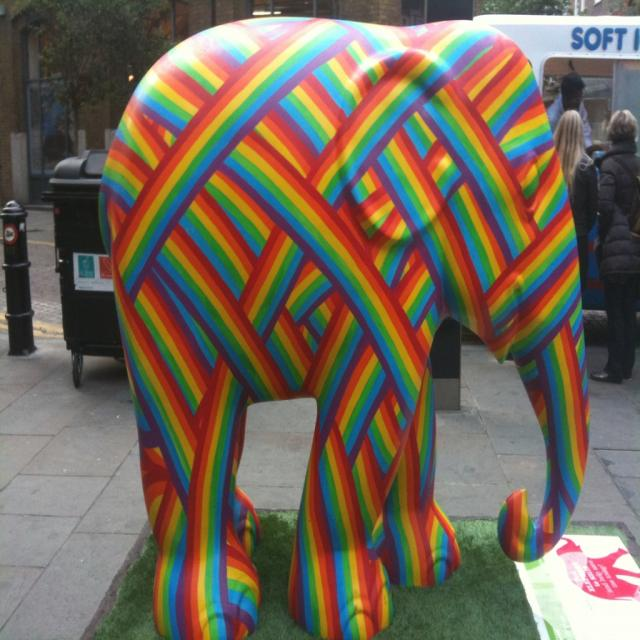elephant: (99, 20, 590, 639), (539, 530, 639, 636)
